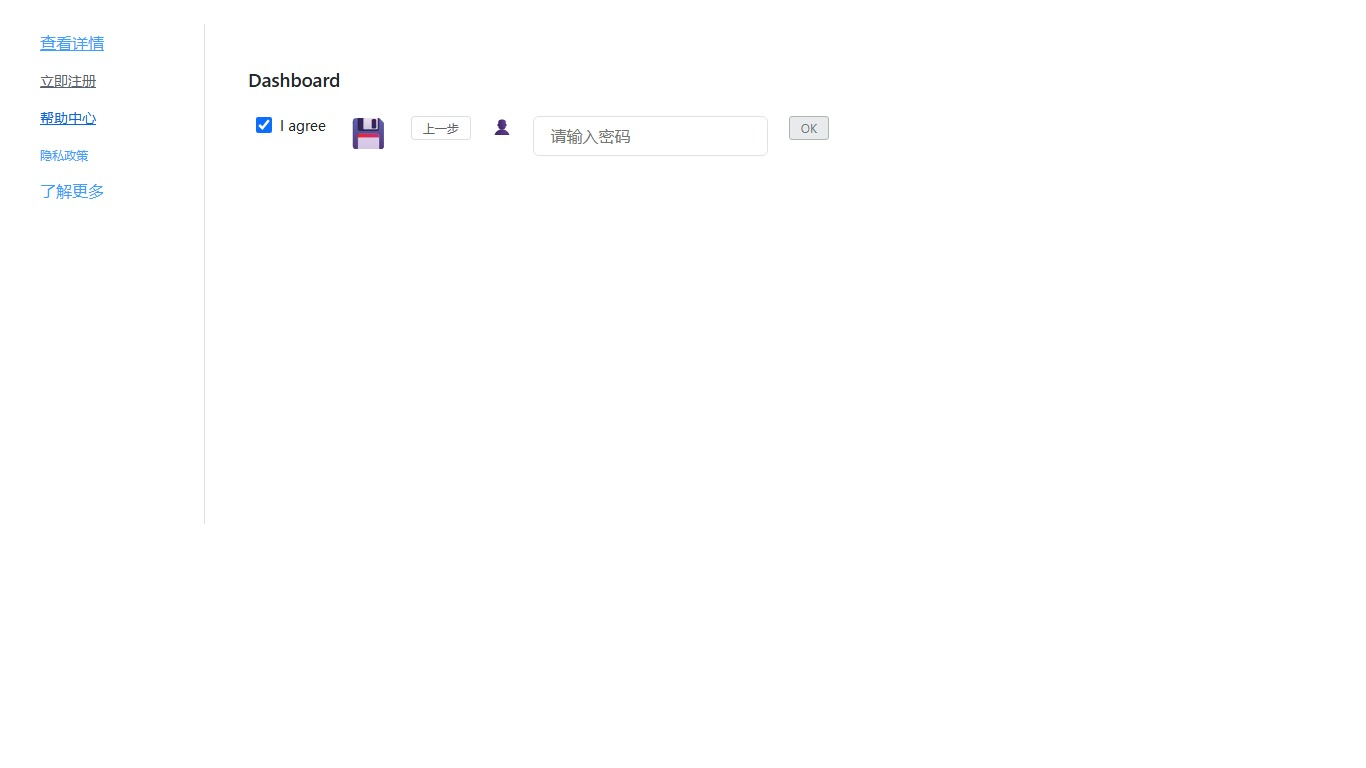button: (411, 116, 471, 140), (789, 116, 829, 140)
checkbox: (256, 117, 272, 133)
icon: (346, 116, 390, 148), (280, 116, 326, 135), (491, 119, 513, 135)
input: (533, 116, 768, 156)
link: (40, 32, 104, 53), (40, 180, 104, 201), (40, 71, 96, 90), (40, 108, 96, 127), (40, 147, 88, 163)
radio: (256, 116, 326, 135)
